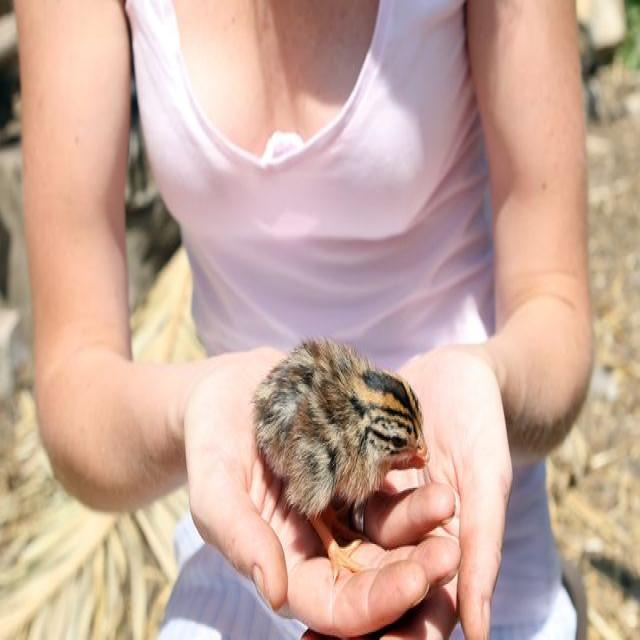brid: (243, 313, 458, 572)
